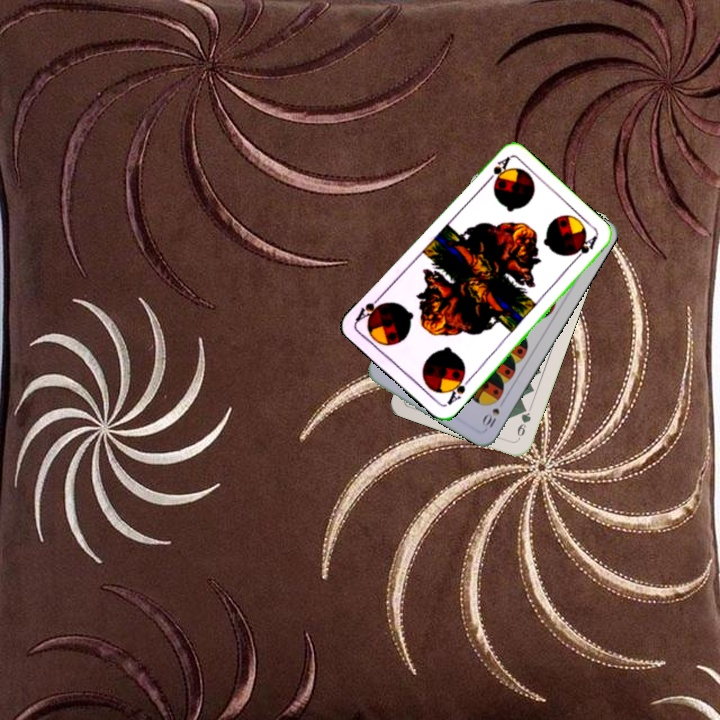G9: (513, 403, 534, 443)
S10: (478, 404, 502, 432)
SA: (443, 370, 473, 408), (481, 153, 513, 188)
